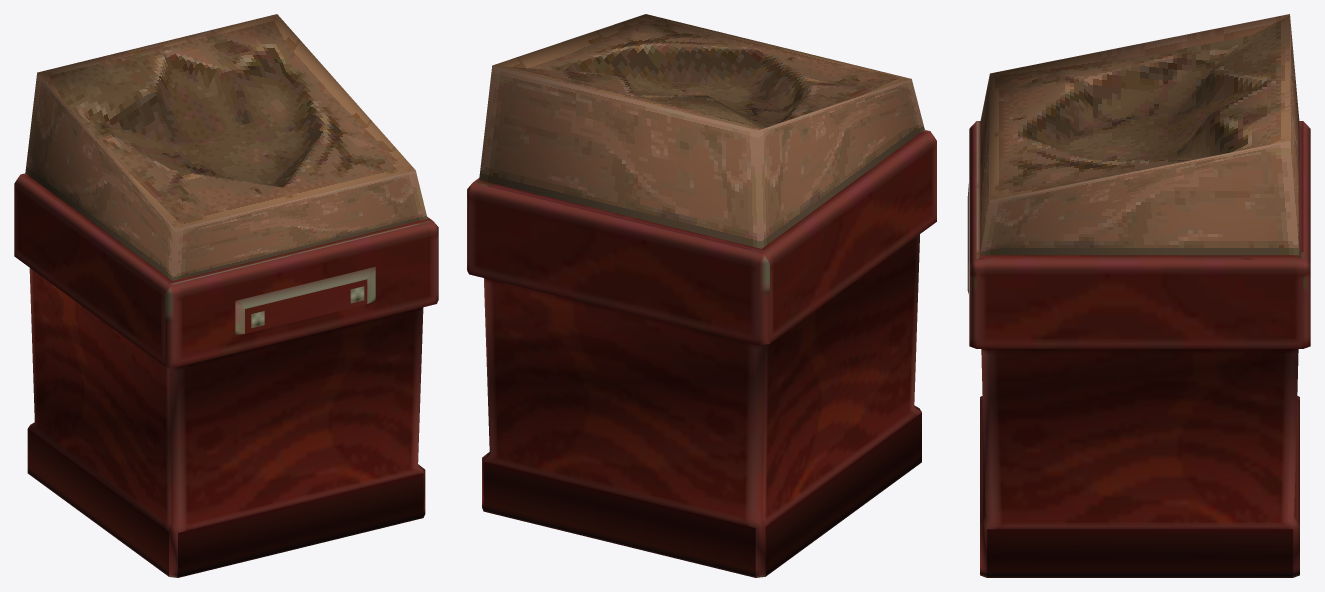
The model's file is int_fos_footp.dae.
3 renders of one model, left to right at view 1: azimuth 30°, elevation 25°; view 2: azimuth 150°, elevation 25°; view 3: azimuth 270°, elevation 25°, orthographic. The views are drawn at different scales.
Parts seen in each view (by area): view 1: int_fos_footp; view 2: int_fos_footp; view 3: int_fos_footp.
Boxes of the visible parts, left/top/right/bottom form: int_fos_footp: left=14, top=14, right=438, bottom=577; int_fos_footp: left=467, top=14, right=936, bottom=577; int_fos_footp: left=967, top=14, right=1310, bottom=577.
Size of the model in its own units: 27.04 by 37.82 by 27.36.
3 materials, 3 textured.
